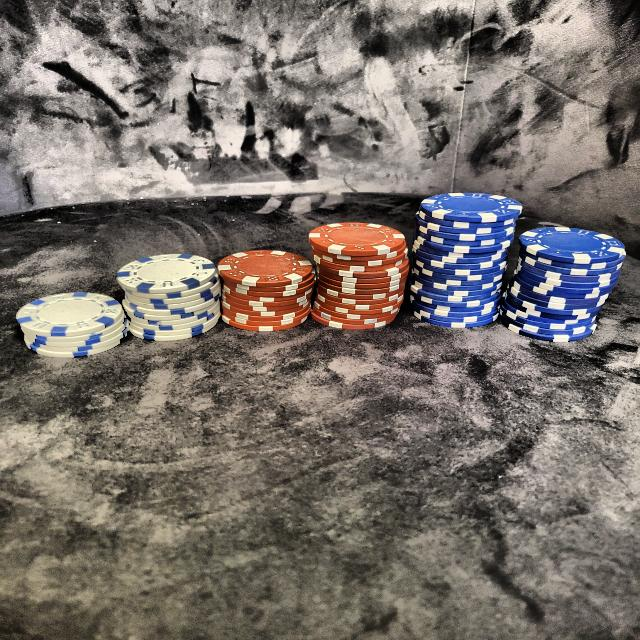Chip: (407, 180, 523, 337), (503, 213, 628, 350), (307, 209, 411, 336), (114, 241, 228, 347), (222, 235, 318, 340), (20, 281, 136, 365)
